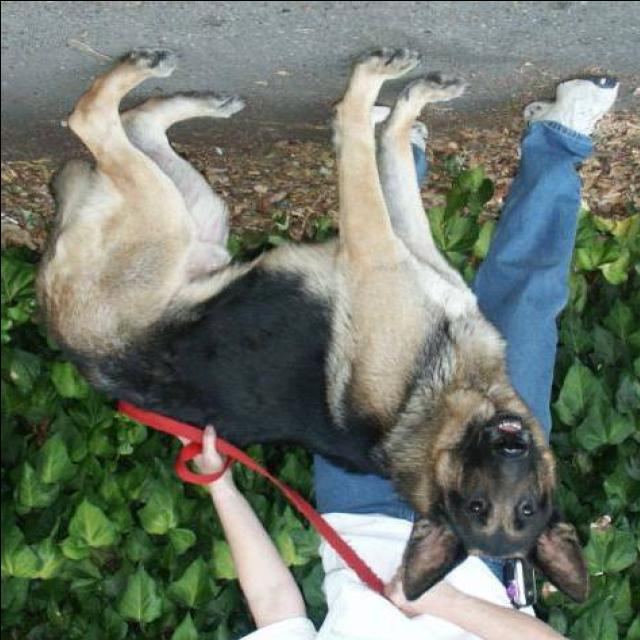dog: (0, 30, 604, 623)
